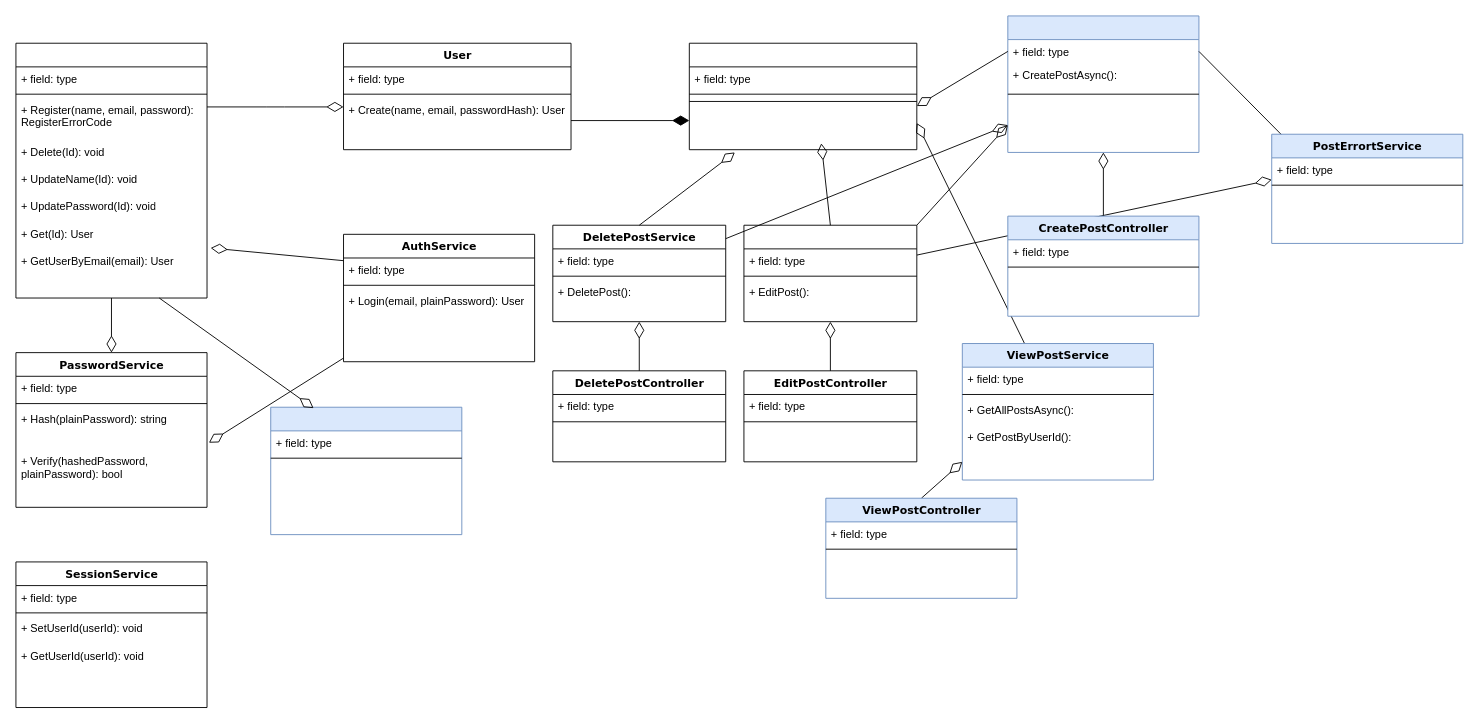
Image size: 1479x723. Some labels were removed from this diagram. Here are the shapes that lost their labels. From the top down, the box of each, then its label:
(688, 42, 917, 150): Post
(1007, 15, 1199, 152): CreatePostService
(15, 42, 207, 298): UserService
(743, 224, 917, 322): EditPostService
(270, 406, 462, 535): UserErrorService
